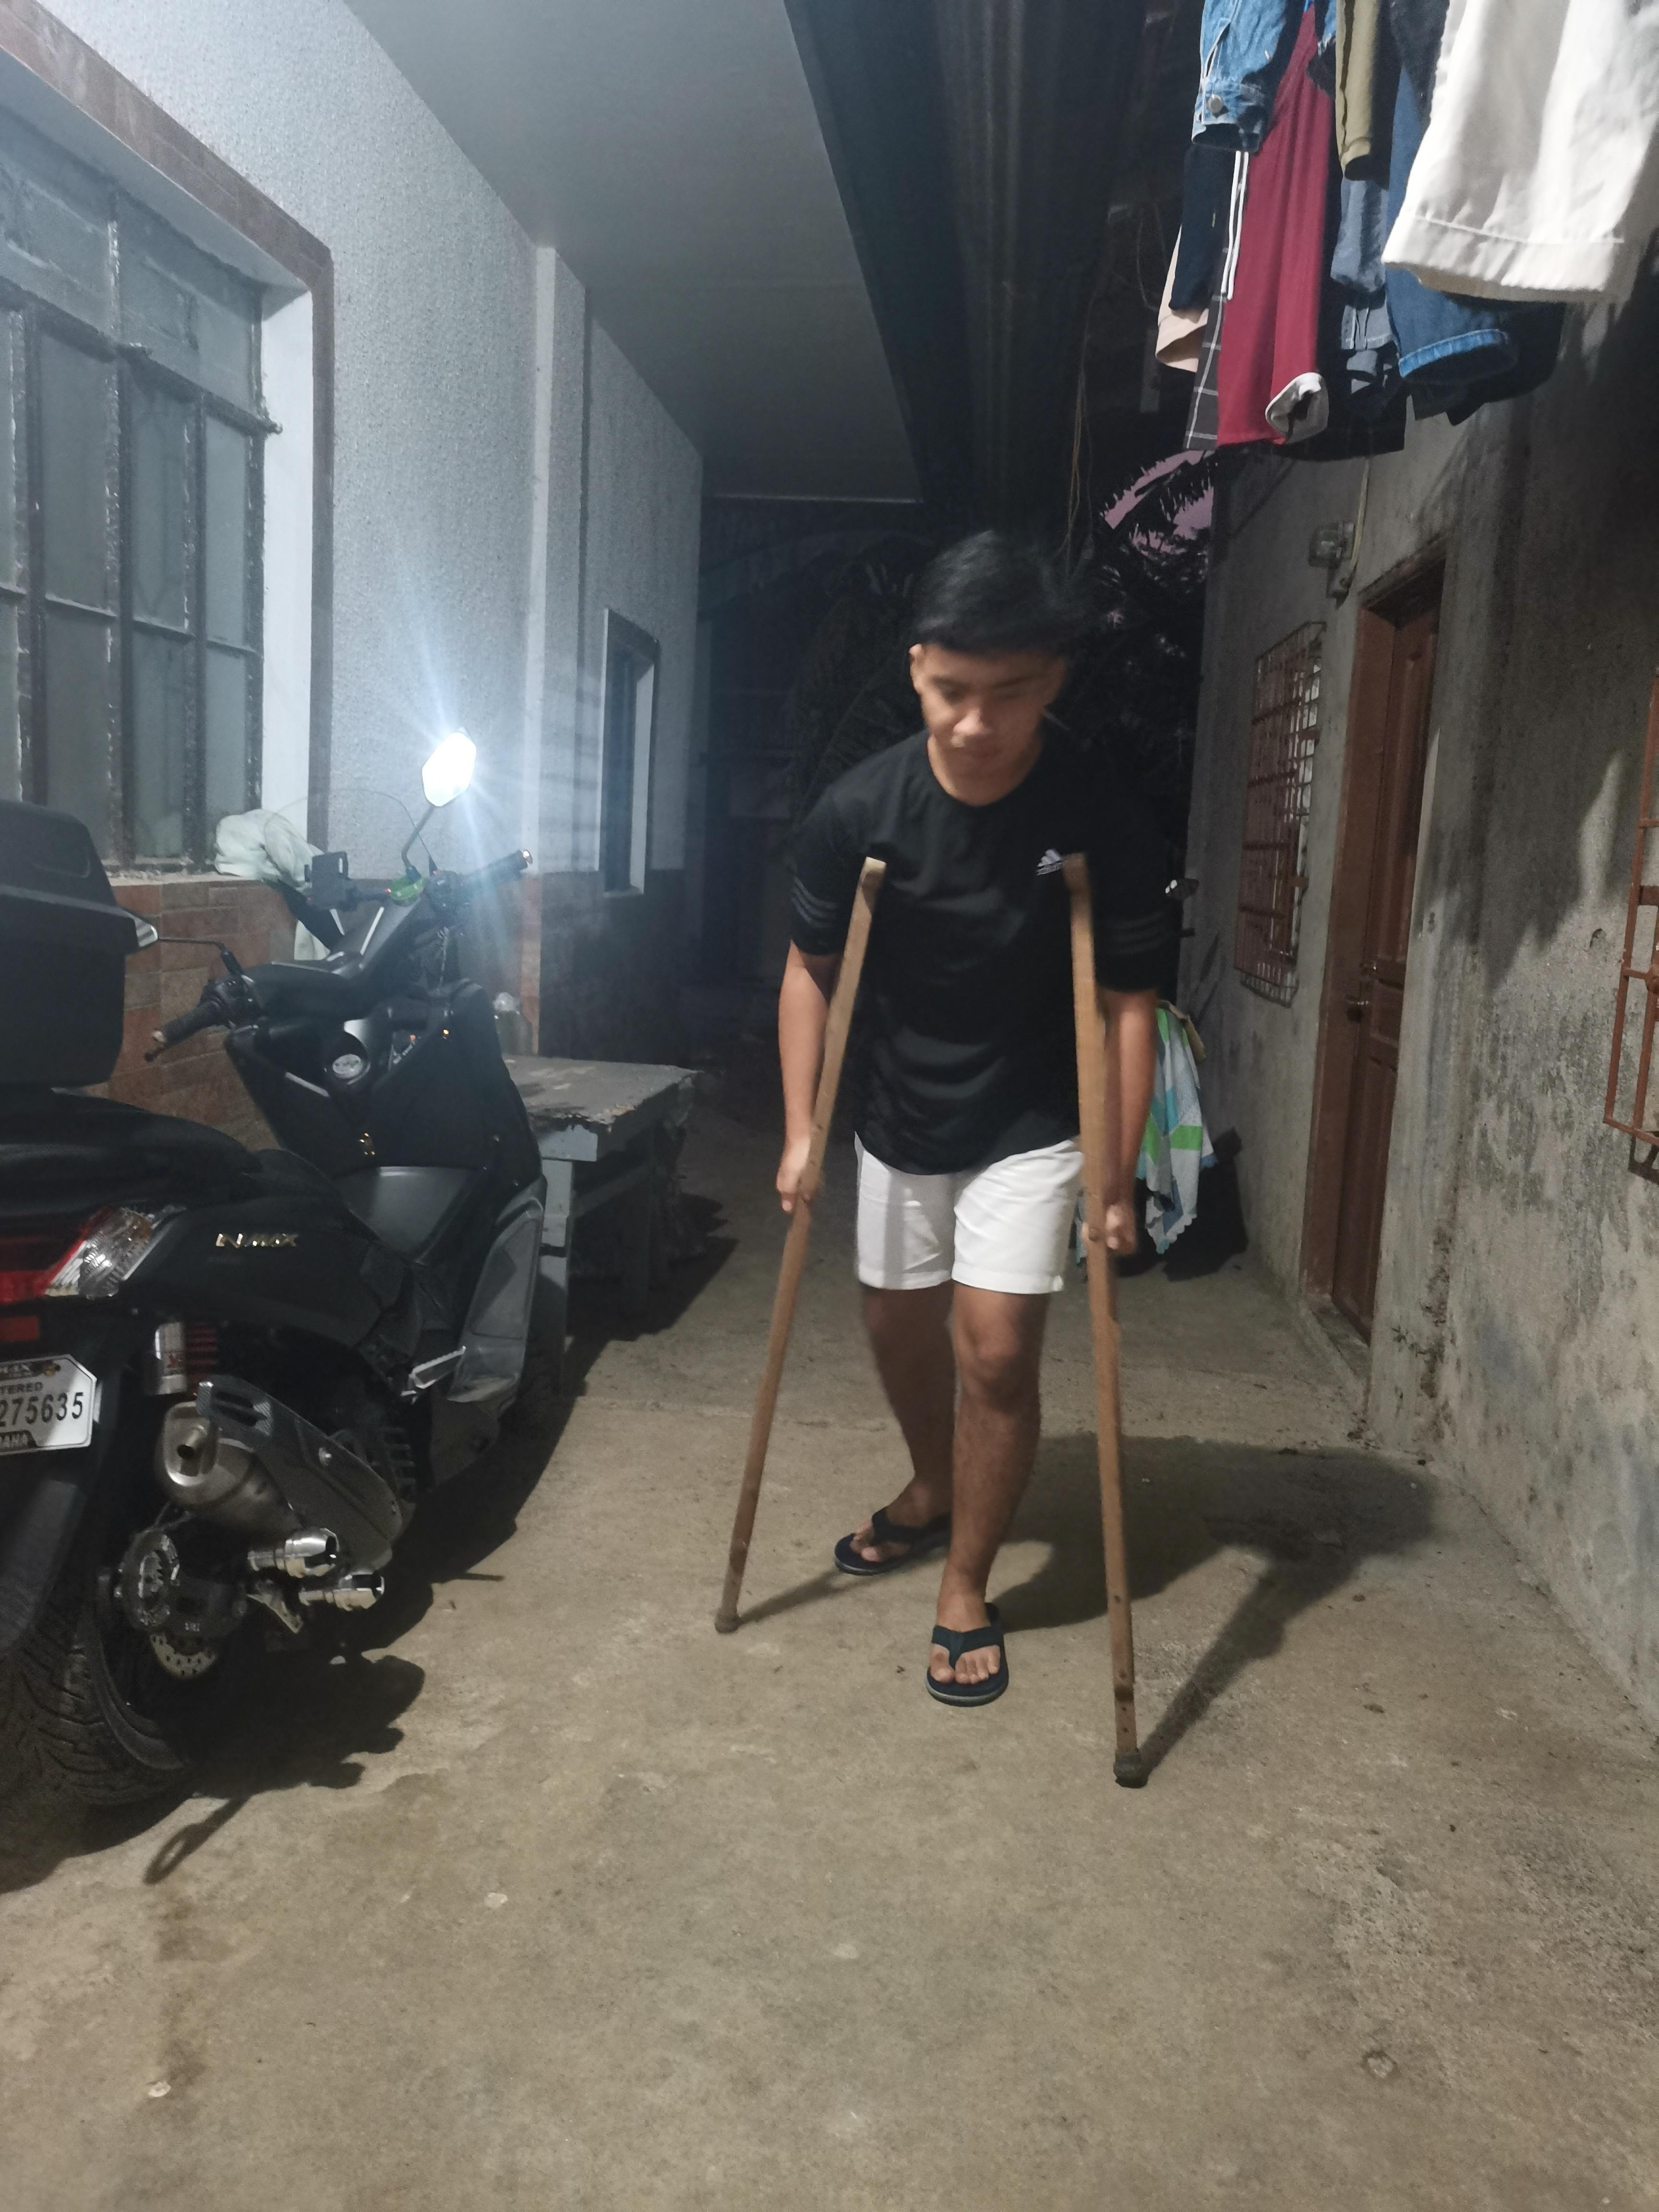crutches: (716, 538, 1161, 1789)
